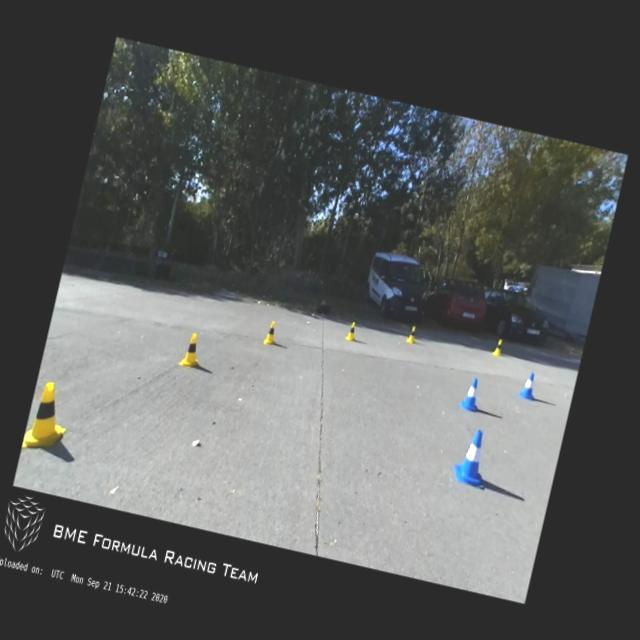blue_cone: (450, 426, 496, 488), (457, 376, 485, 412), (517, 370, 540, 400)
yellow_cone: (20, 378, 76, 458), (178, 331, 205, 369), (262, 320, 280, 345), (344, 321, 358, 341), (491, 336, 505, 356), (406, 324, 418, 343)
